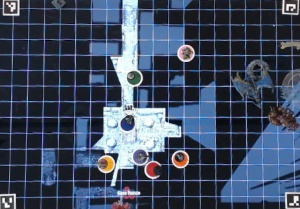blue: (117, 113, 136, 132)
green: (123, 68, 146, 87)
orange: (169, 147, 192, 169)
pink: (175, 42, 197, 64), (144, 160, 163, 179)
violet: (130, 147, 149, 164)
yellow: (94, 153, 116, 172)
